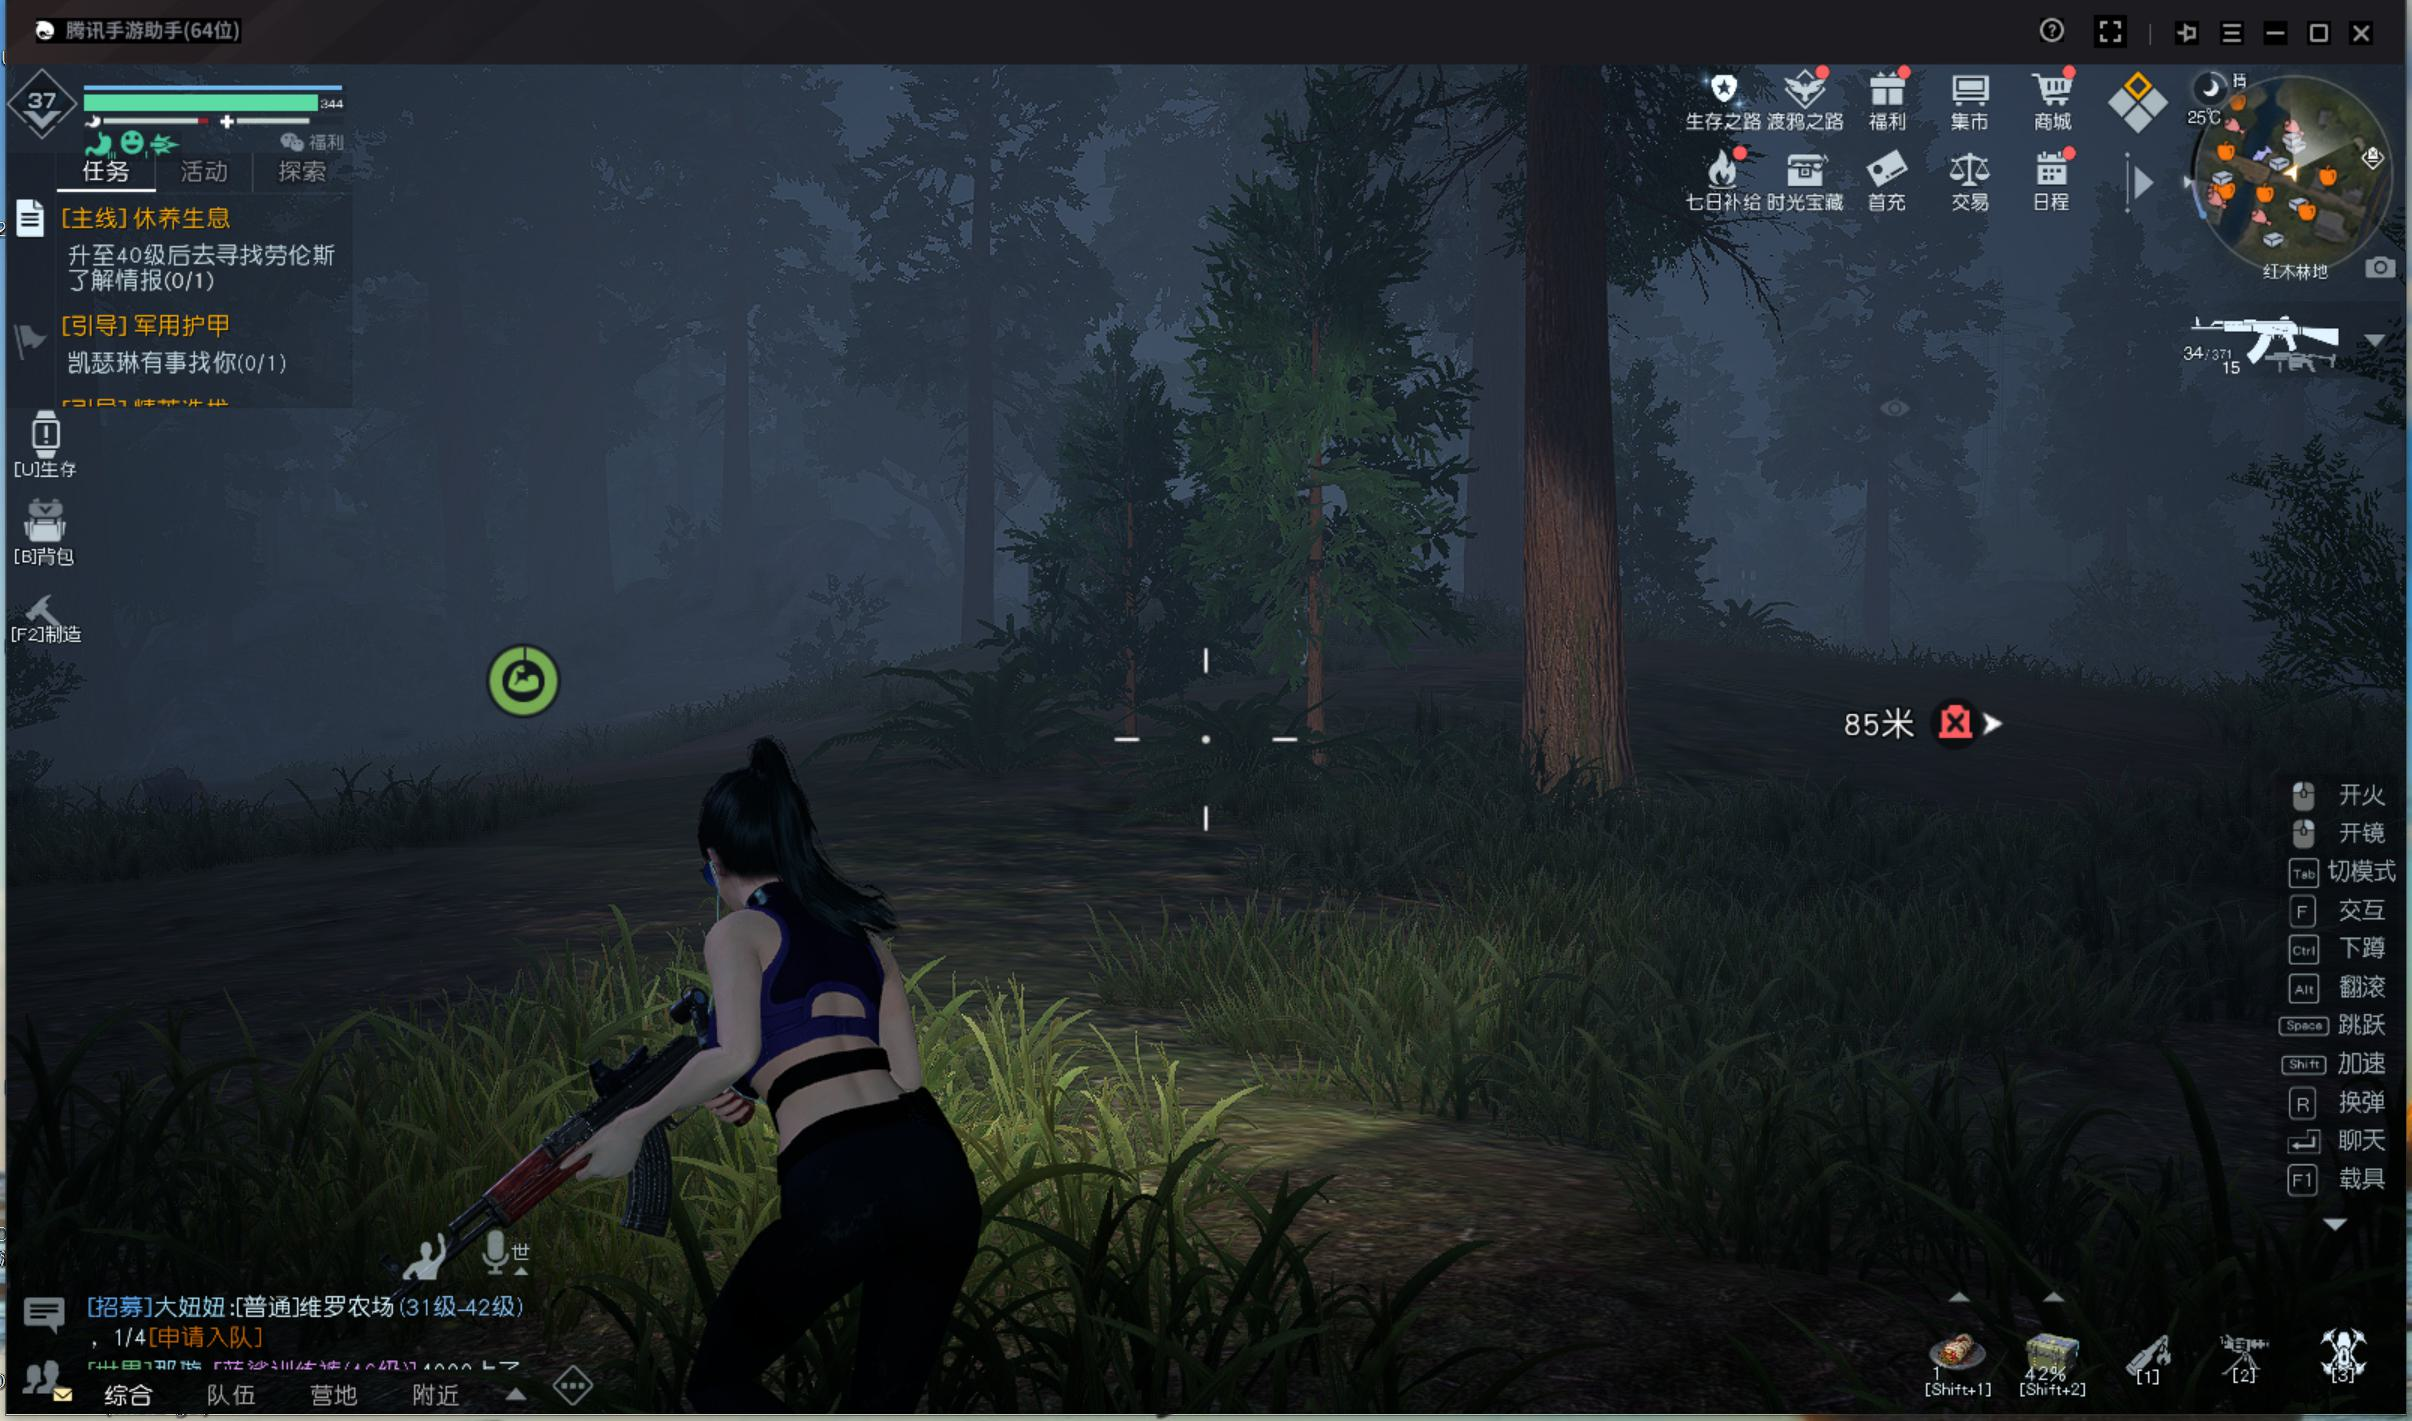tree: (1509, 232, 1615, 831), (426, 306, 506, 624), (952, 255, 1006, 660), (712, 364, 759, 675), (697, 335, 788, 428), (1859, 453, 1894, 687)
